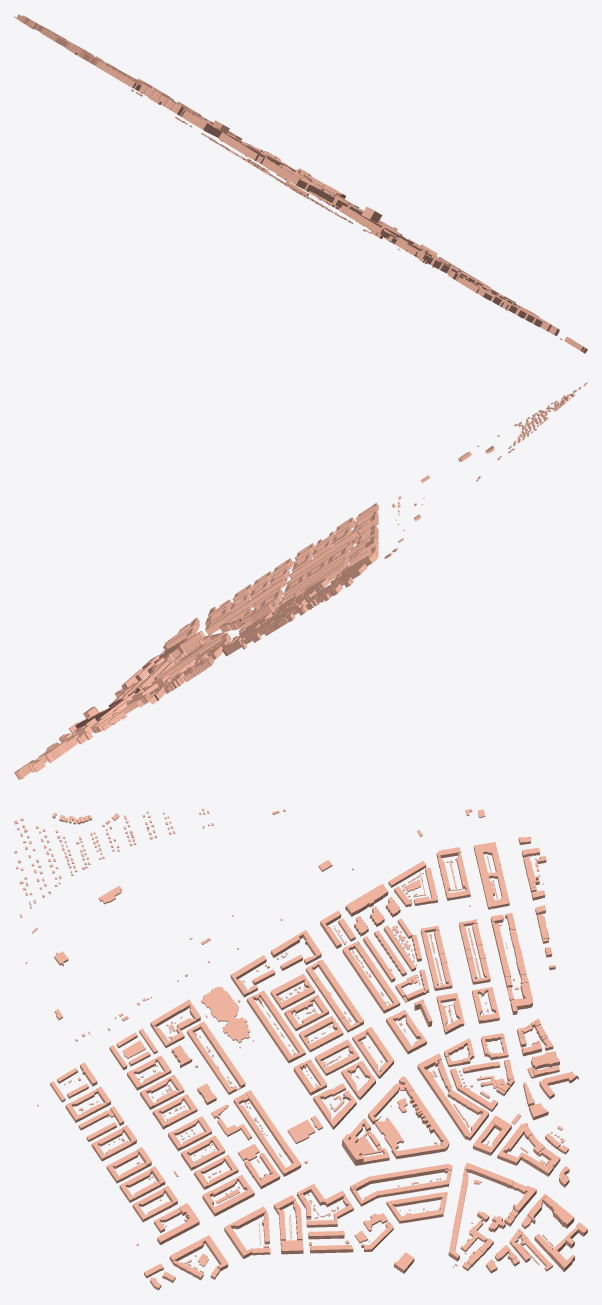
3 views of the same model, one above another, from view 1: azimuth 30°, elevation 25°; view 2: azimuth 150°, elevation 25°; view 3: azimuth 270°, elevation 25° (orthographic). The views are drawn at different scales.
Size of the model in its own units: 1010 by 760 by 1306.
